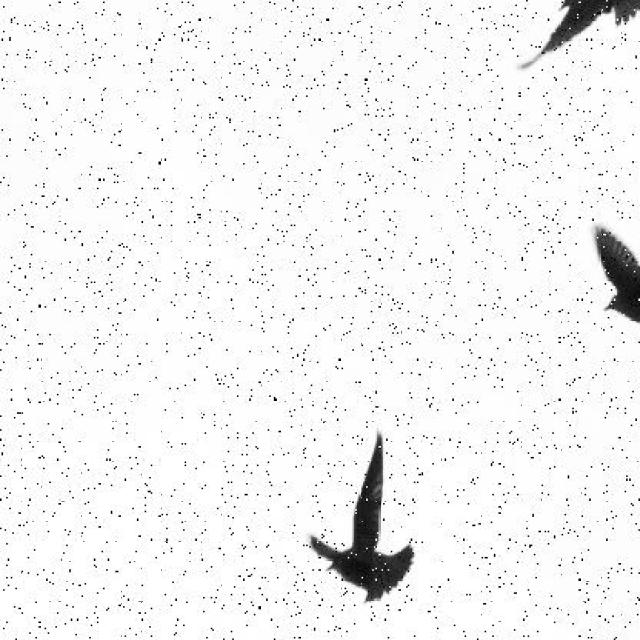bird: (298, 418, 454, 628), (513, 0, 638, 94), (588, 188, 638, 335)
